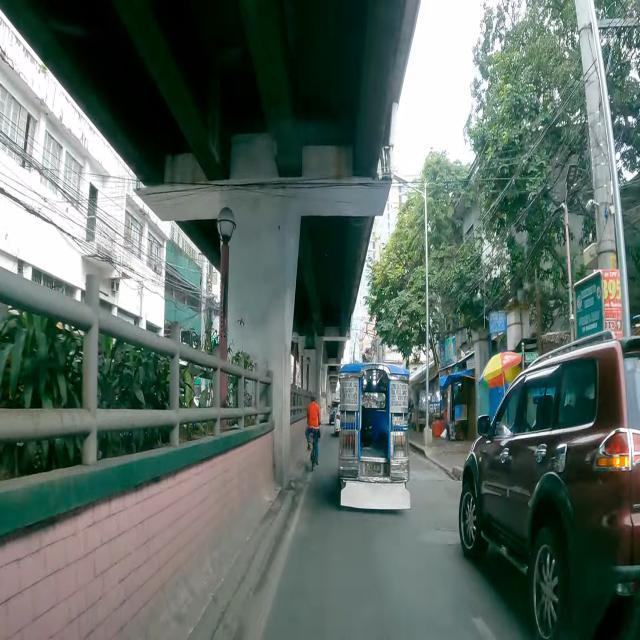bike: (304, 392, 322, 471)
car: (458, 326, 640, 640)
jeepney: (338, 363, 411, 508)
